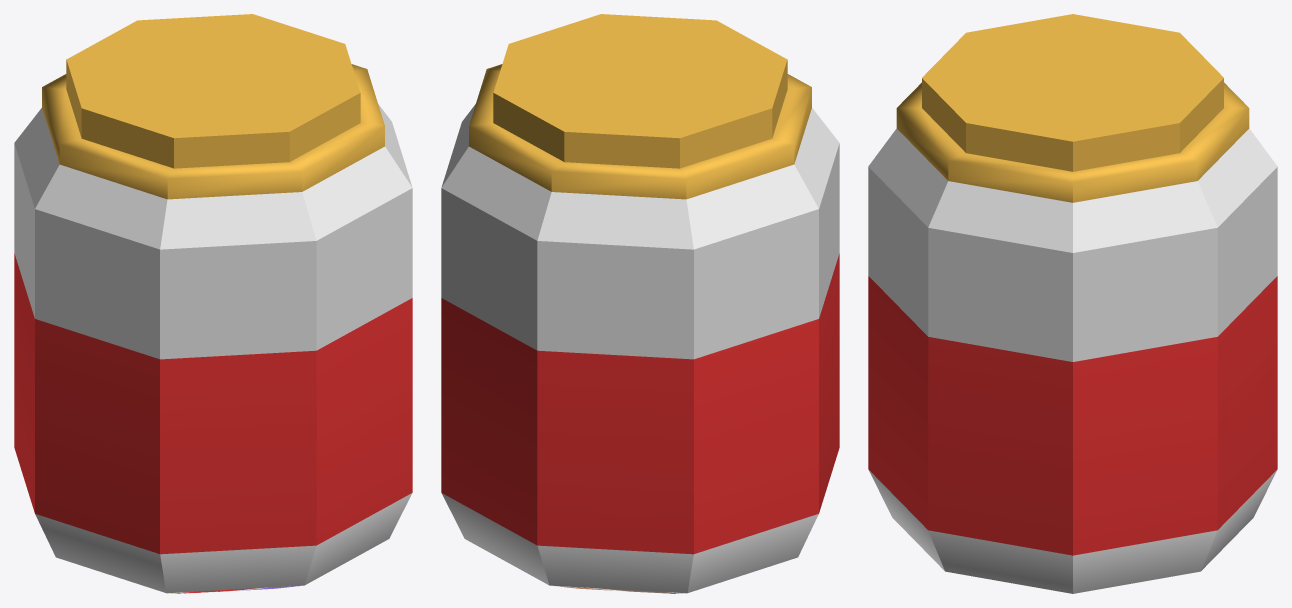
File: Jar_Red.fbx
The picture shows the model from 3 angles, left to right: view 1: azimuth 30°, elevation 25°; view 2: azimuth 150°, elevation 25°; view 3: azimuth 270°, elevation 25°; orthographic projection.
Parts seen in each view (by area): view 1: Drink_Can1; view 2: Drink_Can1; view 3: Drink_Can1.
Boxes of the visible parts, <box> form: Drink_Can1: <box>14,14,412,593</box>; Drink_Can1: <box>441,14,839,593</box>; Drink_Can1: <box>868,14,1277,593</box>.
Size of the model in its own units: 18.44 by 23.07 by 18.44.
